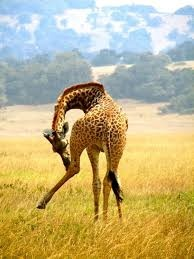giraffe: (35, 74, 129, 230)
